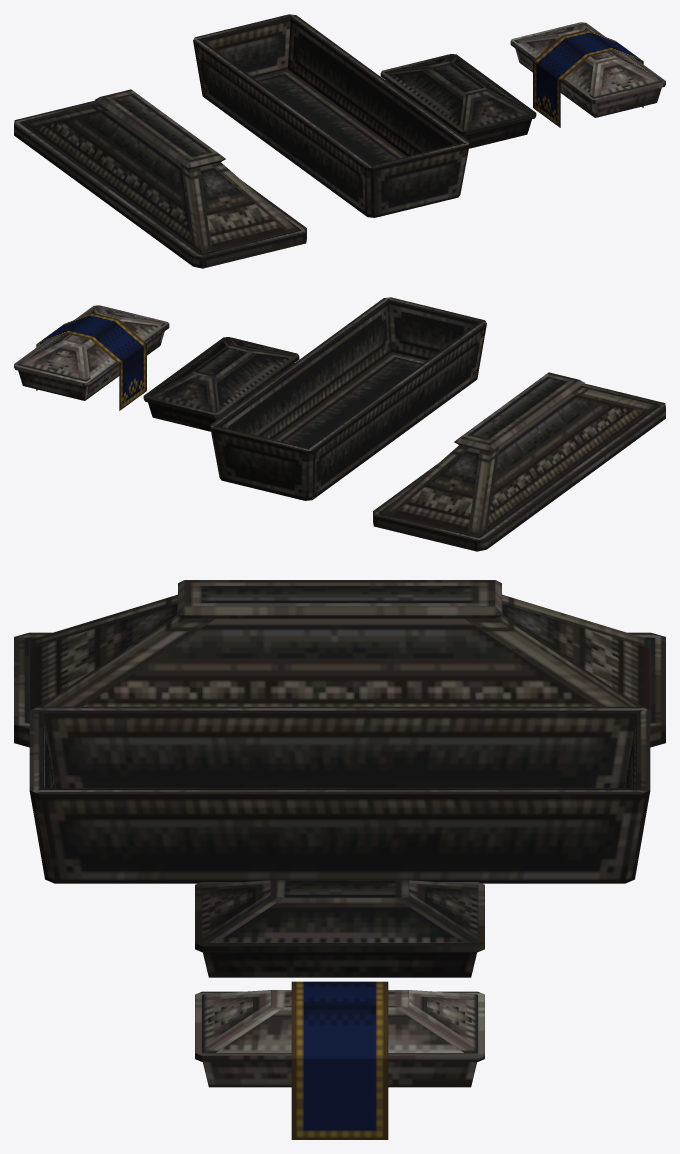
The model's file is EnvObjMD_Cemetery_B_Coffin.FBX.
The picture shows the model from 3 angles, top to bottom: view 1: azimuth 30°, elevation 25°; view 2: azimuth 150°, elevation 25°; view 3: azimuth 270°, elevation 25°; orthographic projection. The views are drawn at different scales.
Parts seen in each view (by area): view 1: EnvObjMD_Cemetery_C_Coffin, EnvObjMD_Cemetery_C_CoffinCover, EnvObjMD_Cemetery_B_Coffin_Pope, EnvObjMD_Cemetery_B_Coffin; view 2: EnvObjMD_Cemetery_C_Coffin, EnvObjMD_Cemetery_C_CoffinCover, EnvObjMD_Cemetery_B_Coffin_Pope, EnvObjMD_Cemetery_B_Coffin; view 3: EnvObjMD_Cemetery_C_Coffin, EnvObjMD_Cemetery_C_CoffinCover, EnvObjMD_Cemetery_B_Coffin_Pope, EnvObjMD_Cemetery_B_Coffin.
Boxes of the visible parts, <box> form: EnvObjMD_Cemetery_C_Coffin: <box>193,14,469,217</box>; EnvObjMD_Cemetery_C_CoffinCover: <box>14,89,306,268</box>; EnvObjMD_Cemetery_B_Coffin_Pope: <box>510,22,665,127</box>; EnvObjMD_Cemetery_B_Coffin: <box>380,54,536,148</box>; EnvObjMD_Cemetery_C_Coffin: <box>210,297,486,500</box>; EnvObjMD_Cemetery_C_CoffinCover: <box>373,372,665,551</box>; EnvObjMD_Cemetery_B_Coffin_Pope: <box>14,305,169,410</box>; EnvObjMD_Cemetery_B_Coffin: <box>143,337,299,431</box>; EnvObjMD_Cemetery_C_Coffin: <box>29,706,650,883</box>; EnvObjMD_Cemetery_C_CoffinCover: <box>14,580,665,747</box>; EnvObjMD_Cemetery_B_Coffin_Pope: <box>195,981,484,1139</box>; EnvObjMD_Cemetery_B_Coffin: <box>195,880,484,977</box>.
Bounding box in the file's own units: 763 × 120 × 473.
Materials: 2 (2 with a texture image).
